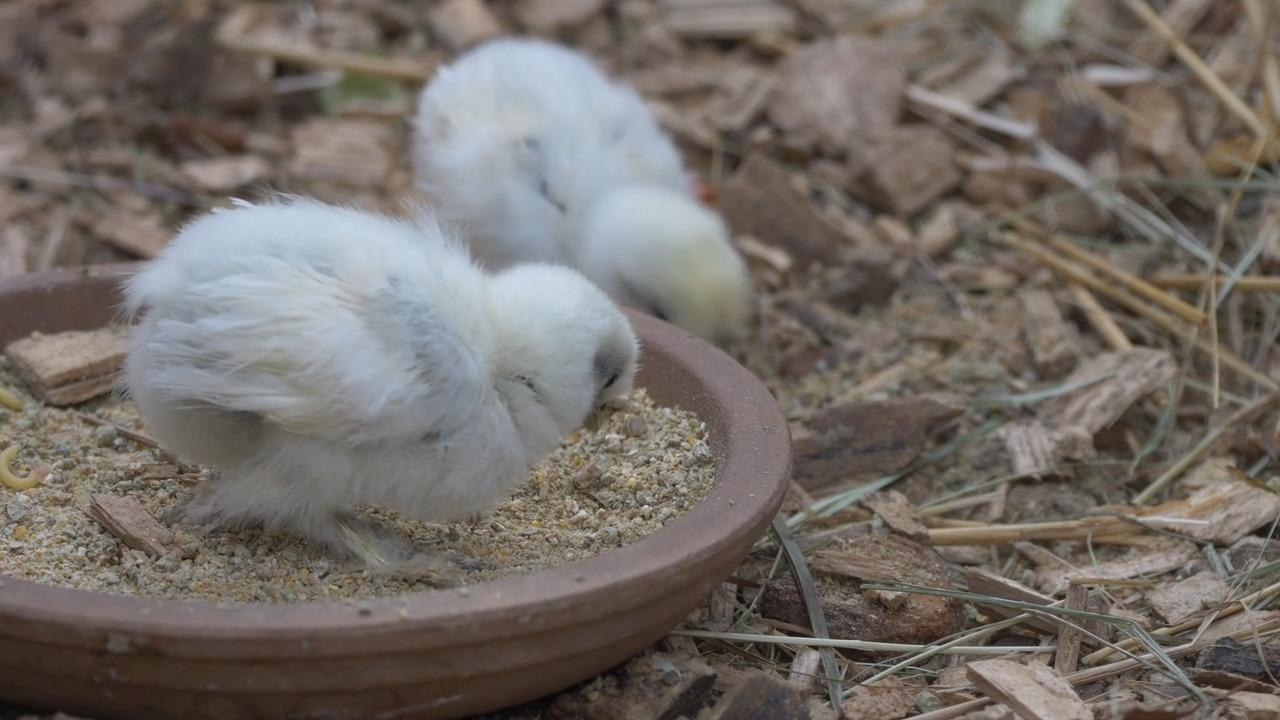Normal: (122, 182, 637, 561)
